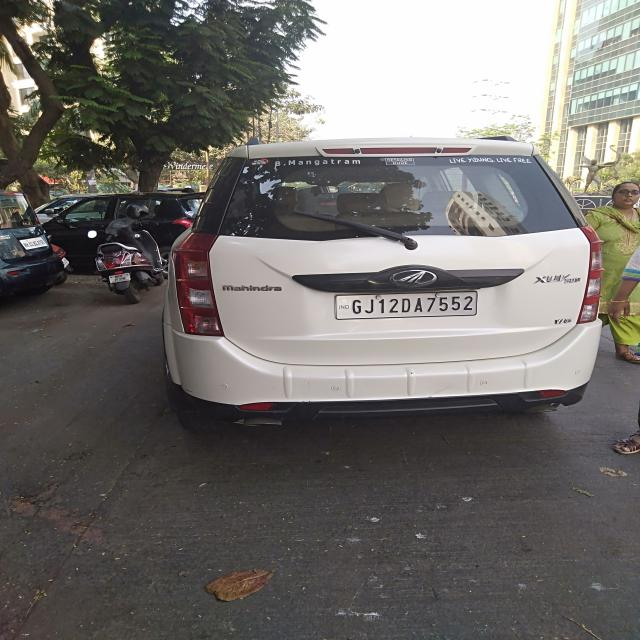Number-Plate: (340, 292, 476, 317)
